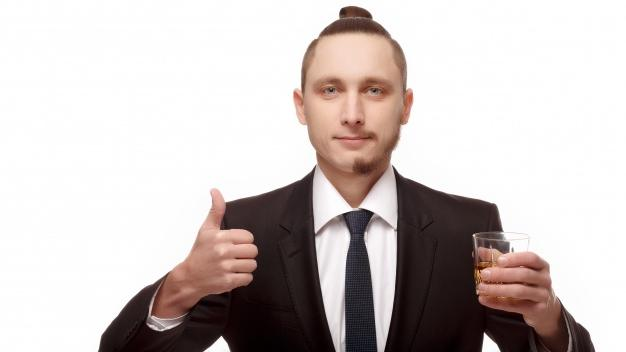thumbsup: (208, 188, 258, 287)
